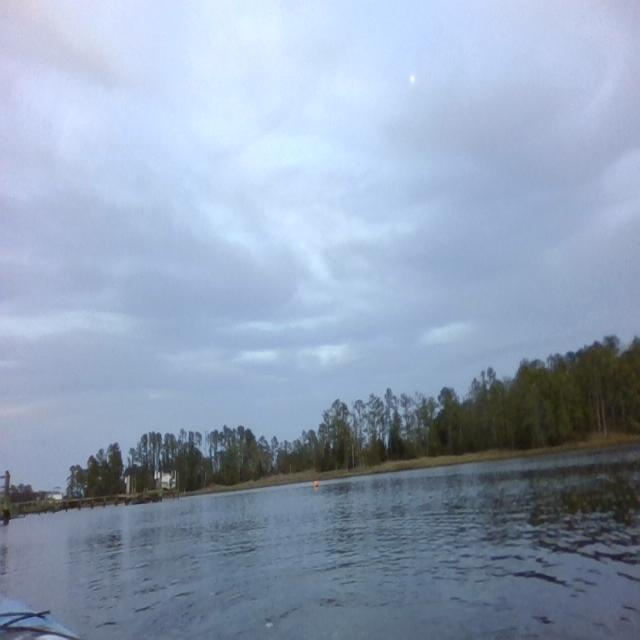Buoy: (313, 477, 320, 490)
